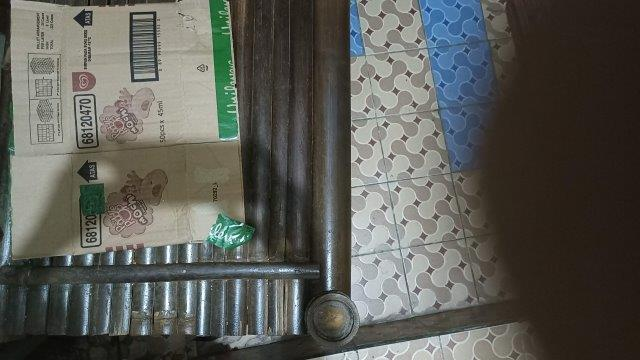kardus: (10, 1, 245, 260)
